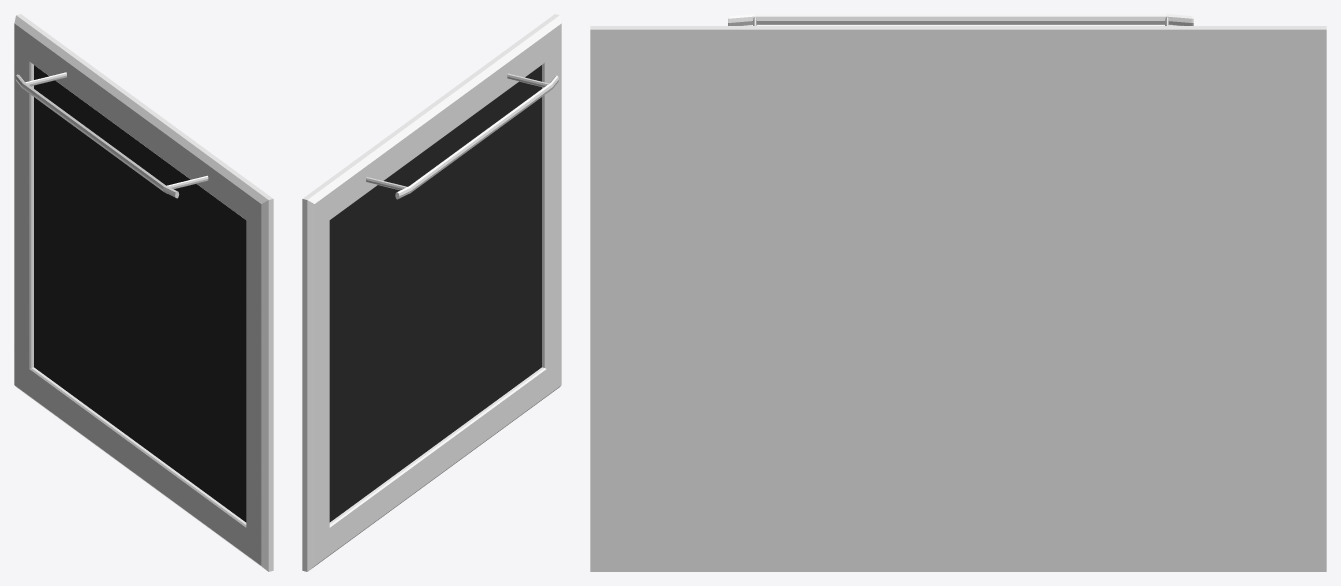
File: Cabinet_5ec6833a.obj
The picture shows the model from 3 angles, left to right: view 1: azimuth 30°, elevation 25°; view 2: azimuth 150°, elevation 25°; view 3: azimuth 270°, elevation 25°; orthographic projection. The views are drawn at different scales.
Parts seen in each view (by area): view 1: CabinetDoorMesh_a4b00b98; view 2: CabinetDoorMesh_a4b00b98; view 3: CabinetDoorMesh_a4b00b98.
Part boxes in pixels (x1,y1,x2,y2): CabinetDoorMesh_a4b00b98: (14,14,273,571); CabinetDoorMesh_a4b00b98: (302,14,561,571); CabinetDoorMesh_a4b00b98: (590,14,1326,571).
Bounding box in the file's own units: 0.0977 × 0.6404 × 0.7881.
